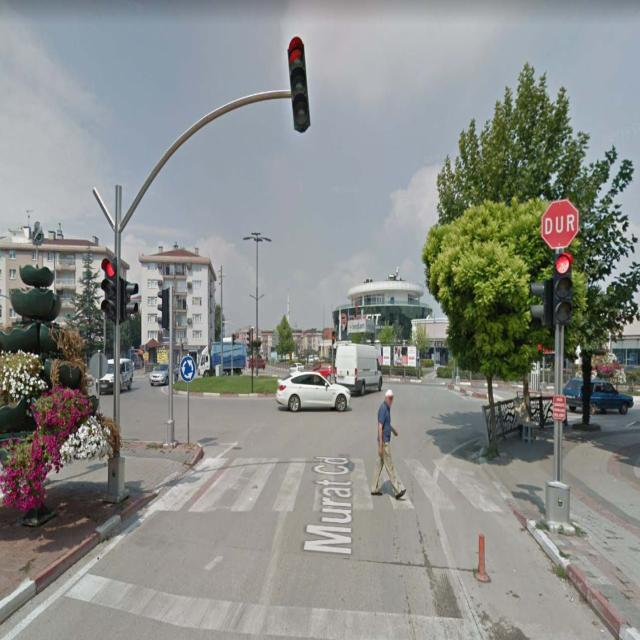dur: (542, 200, 578, 248)
kirmizi: (288, 41, 312, 130), (555, 254, 573, 324), (103, 261, 116, 315)
